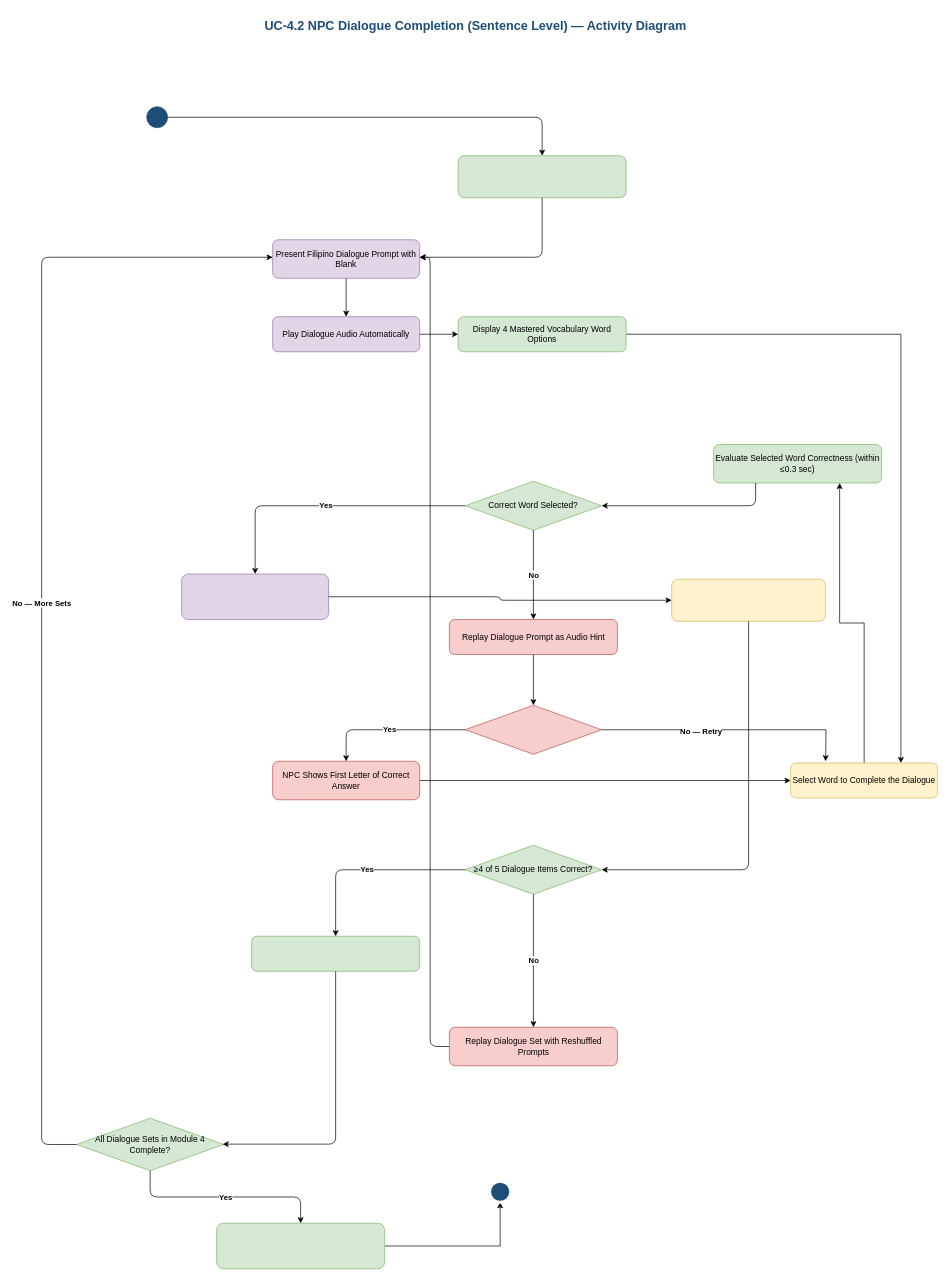
The diagram is 950 pixels wide and 1281 high, and some of its shapes have lost their labels. Each missing label, with the box of its shape:
Advance to Next Dialogue Set: (251, 936, 420, 971)
Module 4 Active — At Least One Drag-and-Drop Tier Attempted: (457, 155, 626, 198)
NPC Reacts Positively + Full Dialogue Audio Plays with Word Filled In: (181, 573, 329, 620)
Record Dialogue Item Accuracy in sentence_progress: (671, 579, 826, 621)
Repeated Incorrect Attempts?: (464, 705, 602, 754)
Trigger UC-4.3 Sentence Tier Lock and Module 4 Completion Evaluation: (216, 1223, 385, 1269)
